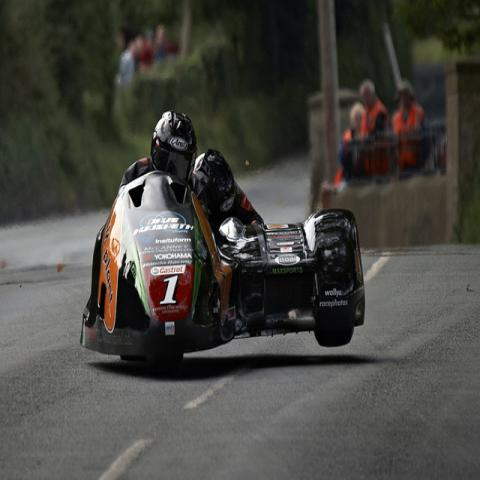motorcycle: (81, 172, 366, 362)
